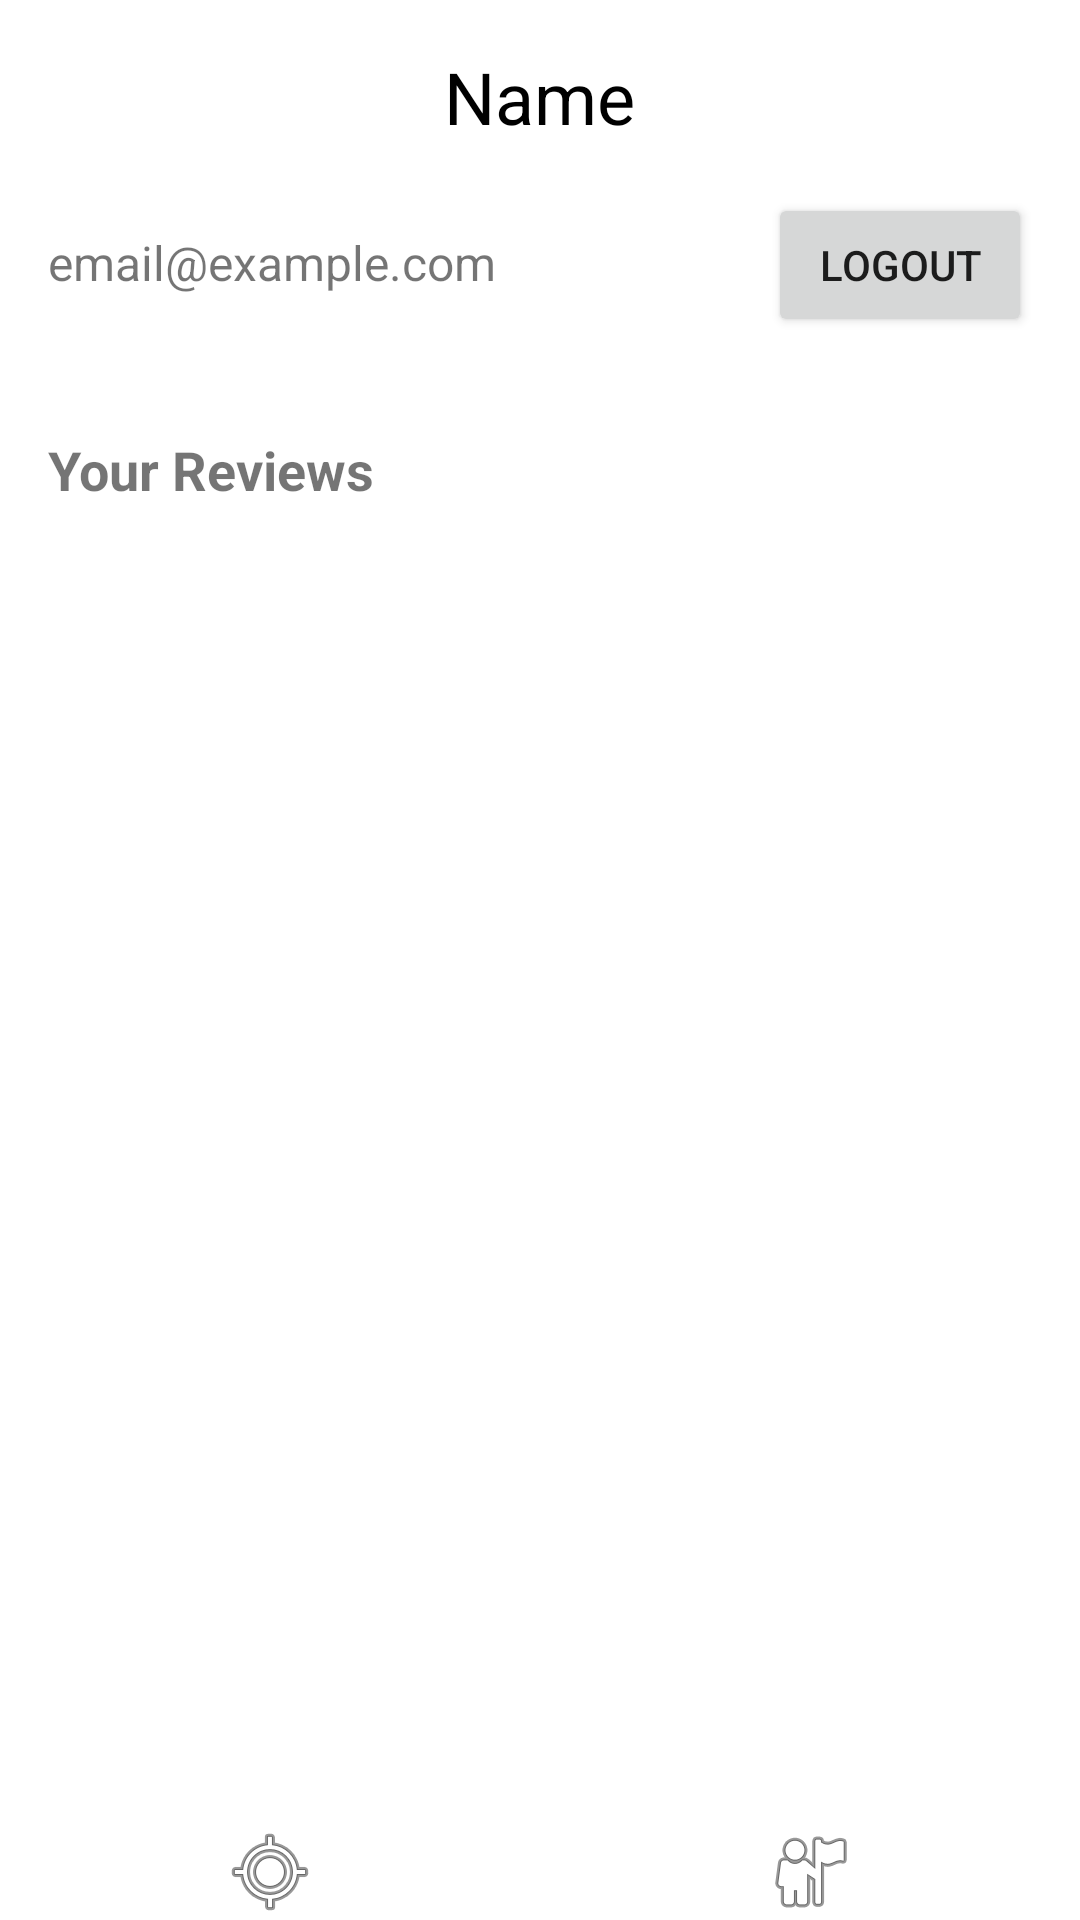

Screen size 1080*1920. Icon name, then its box in pixels as (x1, y1, x2, y2):
Map Tab: (232, 1834, 308, 1910)
Profile Tab: (775, 1836, 847, 1908)
